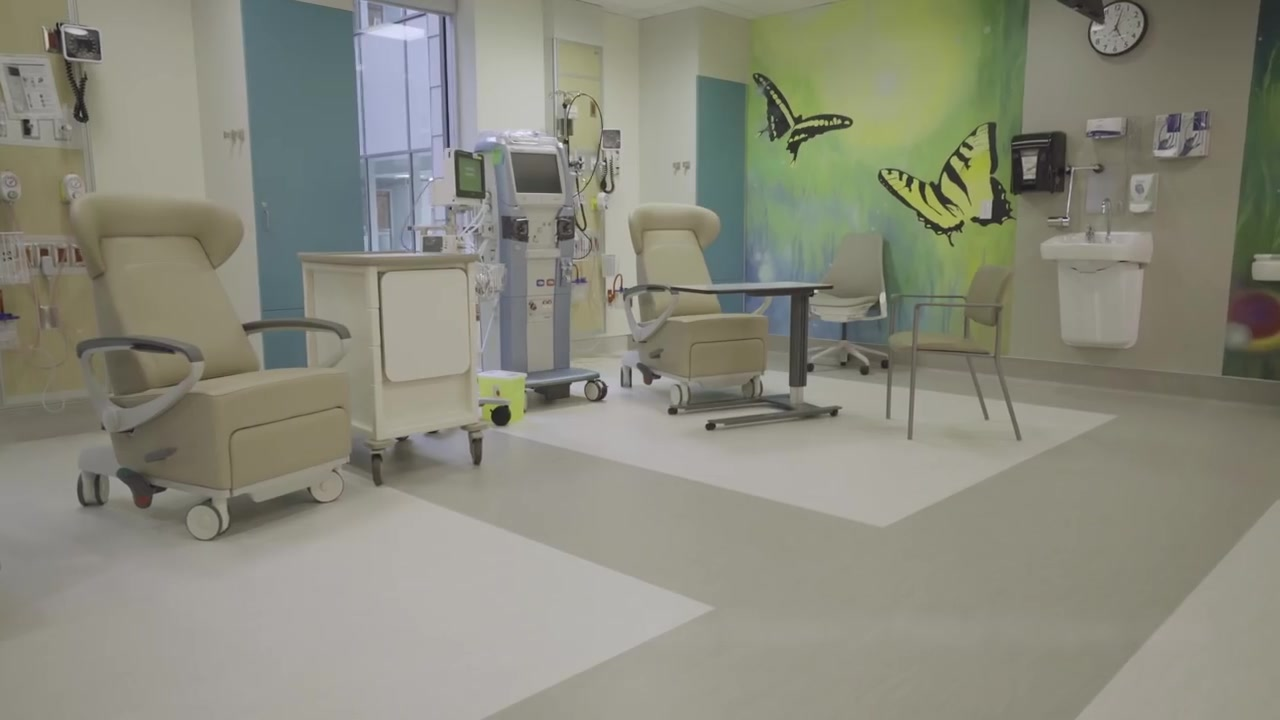bedside_monitor: (440, 150, 490, 205), (509, 151, 564, 196)
chair: (66, 177, 354, 524), (619, 202, 768, 415), (885, 265, 1022, 443), (809, 230, 892, 371)
dispenser: (1008, 132, 1065, 195), (1130, 174, 1160, 214), (1084, 117, 1128, 140)
faucet: (1101, 198, 1112, 239)
handle: (261, 195, 273, 237)
iv_pole: (552, 89, 583, 139)
overbed_table: (673, 279, 839, 434)
sink: (1041, 231, 1157, 264)
utility_cart: (297, 246, 491, 484)
waste_bin: (477, 372, 526, 427)
